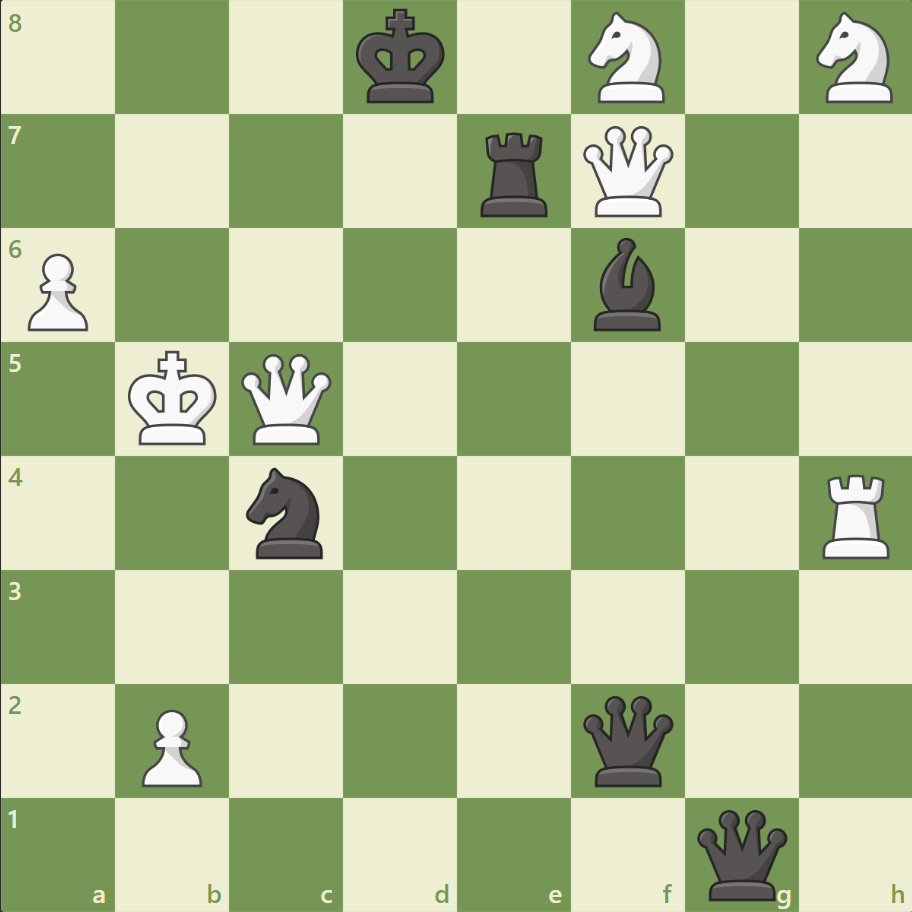K: (124, 344, 224, 452)
N: (579, 7, 676, 110), (806, 7, 903, 110)
P: (20, 246, 95, 337), (133, 700, 208, 791)
Q: (578, 122, 677, 222), (237, 349, 336, 449)
R: (814, 466, 897, 563)
b: (585, 233, 669, 336)
k: (351, 4, 451, 112)
n: (238, 461, 335, 564)
q: (578, 690, 677, 789), (691, 804, 790, 903)
r: (473, 125, 556, 222)
